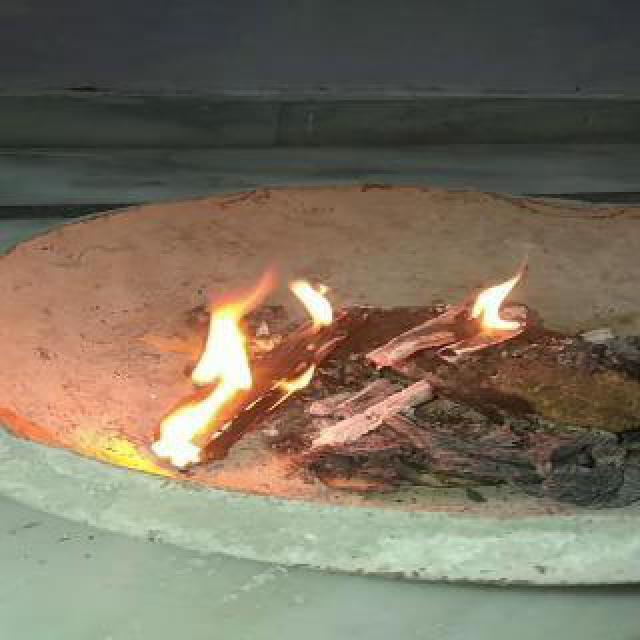Fire: (142, 240, 540, 474)
